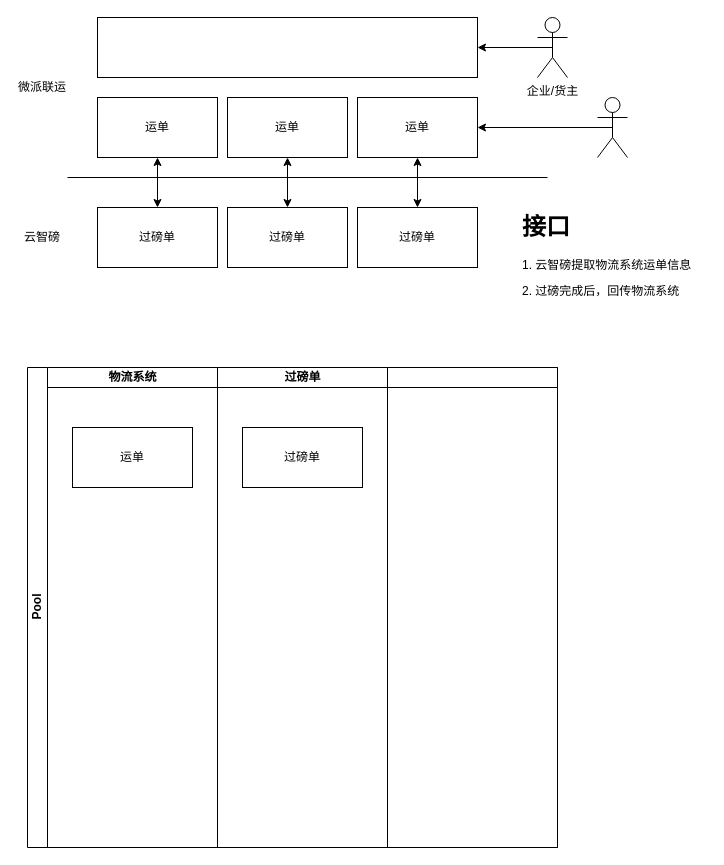
Image size: 724x865. Some labels were removed from this diagram. The centre of each missing label's shape, as x and y in pixels:
"Lane 3" belongs at [472,607].
"司机" belongs at [612,127].
"订单" belongs at [287,47].
